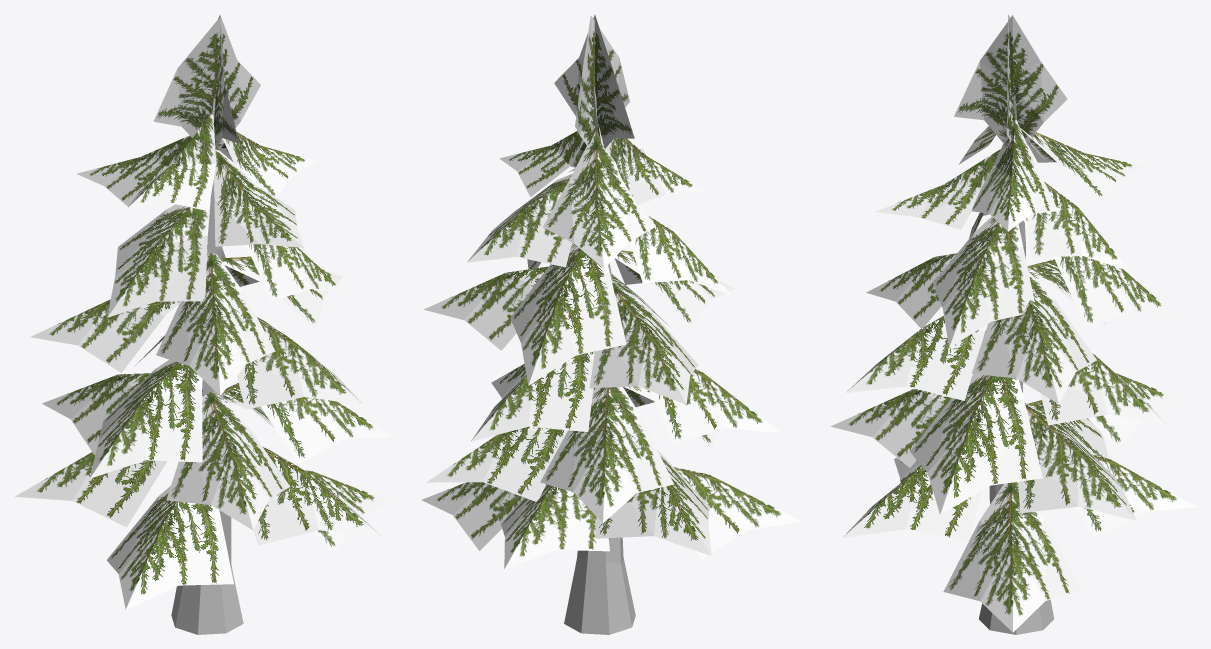
File: cedar_01_a_source.fbx
The picture shows the model from 3 angles, left to right: view 1: azimuth 30°, elevation 25°; view 2: azimuth 150°, elevation 25°; view 3: azimuth 270°, elevation 25°; orthographic projection.
Visible parts, largest first — view 1: Plane_002, Plane_010, Plane_007, Plane_015, Plane_018, Plane_025, Plane_020, Plane_004, Plane_012, Plane_005, Plane_013, Plane_009 (+9 smaller); view 2: Plane_008, Plane_016, Plane_021, Plane_013, Plane_011, Plane_003, Plane_006, Plane_005, Cylinder, Plane_010, Plane_019, Plane_014 (+10 smaller); view 3: Plane_009, Plane_001, Plane_017, Plane_014, Plane_024, Plane_006, Plane_012, Plane_004, Plane_022, Plane_016, Plane_011, Plane_007 (+10 smaller).
Boxes of the visible parts, x1=… form: Plane_002: x1=107, y1=486, x2=233, y2=609; Plane_010: x1=89, y1=359, x2=202, y2=478; Plane_007: x1=166, y1=392, x2=290, y2=530; Plane_015: x1=156, y1=252, x2=275, y2=395; Plane_018: x1=107, y1=197, x2=210, y2=317; Plane_025: x1=153, y1=16, x2=260, y2=150; Plane_020: x1=213, y1=149, x2=303, y2=247; Plane_004: x1=253, y1=446, x2=382, y2=545; Plane_012: x1=237, y1=316, x2=363, y2=409; Plane_005: x1=15, y1=452, x2=167, y2=527; Plane_013: x1=30, y1=299, x2=180, y2=372; Plane_009: x1=234, y1=376, x2=392, y2=463; Plane_008: x1=540, y1=387, x2=673, y2=522; Plane_016: x1=510, y1=242, x2=626, y2=385; Plane_021: x1=543, y1=131, x2=655, y2=268; Plane_013: x1=589, y1=281, x2=698, y2=404; Plane_011: x1=471, y1=351, x2=594, y2=441; Plane_003: x1=501, y1=484, x2=609, y2=569; Plane_006: x1=426, y1=426, x2=567, y2=501; Plane_005: x1=595, y1=450, x2=711, y2=555; Cylinder: x1=564, y1=81, x2=635, y2=634; Plane_010: x1=649, y1=369, x2=780, y2=443; Plane_019: x1=467, y1=173, x2=572, y2=267; Plane_014: x1=424, y1=266, x2=548, y2=350; Plane_009: x1=910, y1=374, x2=1042, y2=514; Plane_001: x1=943, y1=482, x2=1081, y2=632; Plane_017: x1=933, y1=216, x2=1034, y2=347; Plane_014: x1=972, y1=271, x2=1096, y2=403; Plane_024: x1=954, y1=15, x2=1067, y2=142; Plane_006: x1=1018, y1=402, x2=1136, y2=520; Plane_012: x1=846, y1=316, x2=987, y2=400; Plane_004: x1=842, y1=466, x2=981, y2=542; Plane_022: x1=971, y1=119, x2=1058, y2=231; Plane_016: x1=1023, y1=218, x2=1177, y2=327; Plane_011: x1=1040, y1=353, x2=1166, y2=425; Plane_007: x1=830, y1=388, x2=951, y2=467.
Bounding box in the file's own units: 11.21 × 19.36 × 10.55.
